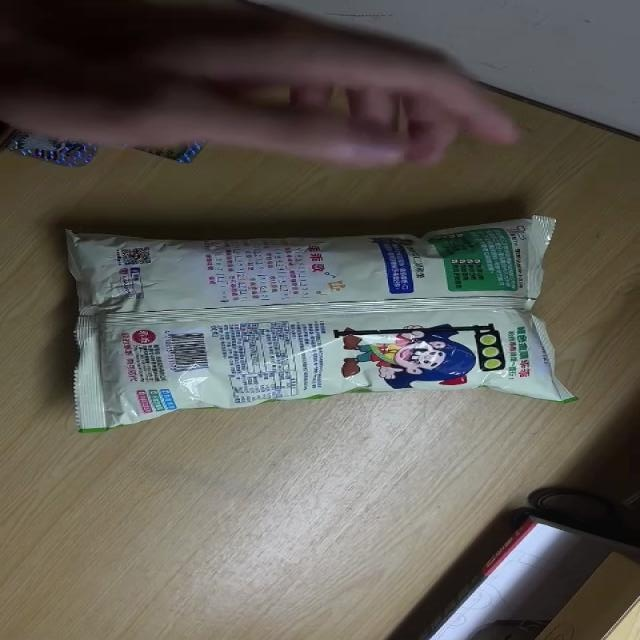Good-Luck: (56, 214, 582, 436)
